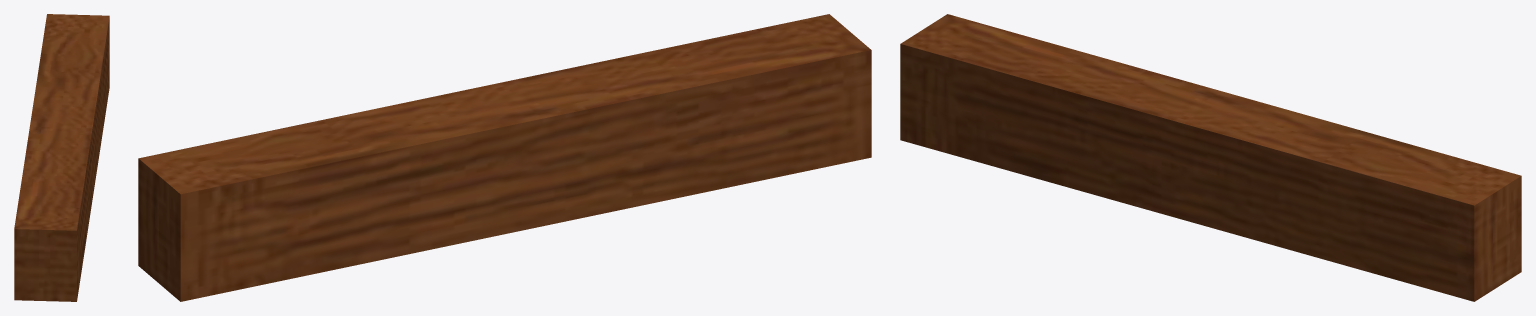
Rendered from frame__front_upright_pos.glb.
3 renders of one model, left to right at view 1: azimuth 30°, elevation 25°; view 2: azimuth 150°, elevation 25°; view 3: azimuth 270°, elevation 25°, orthographic. The views are drawn at different scales.
Parts seen in each view (by area): view 1: geometry_0; view 2: geometry_0; view 3: geometry_0.
Part boxes in pixels (x1,y1,x2,y2): geometry_0: [14, 14, 109, 301]; geometry_0: [138, 14, 871, 301]; geometry_0: [900, 14, 1521, 301].
Bounding box in the file's own units: 0.2133 × 0.05 × 0.2922.
Materials: 1 (1 with a texture image).
